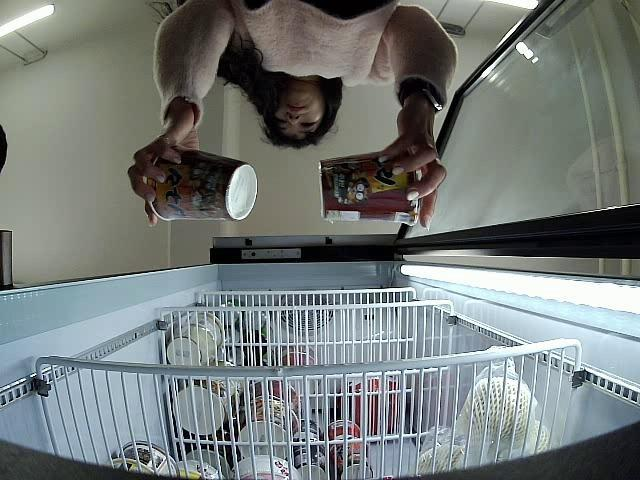06_nuguri_S: (144, 142, 258, 223), (319, 152, 420, 226)
